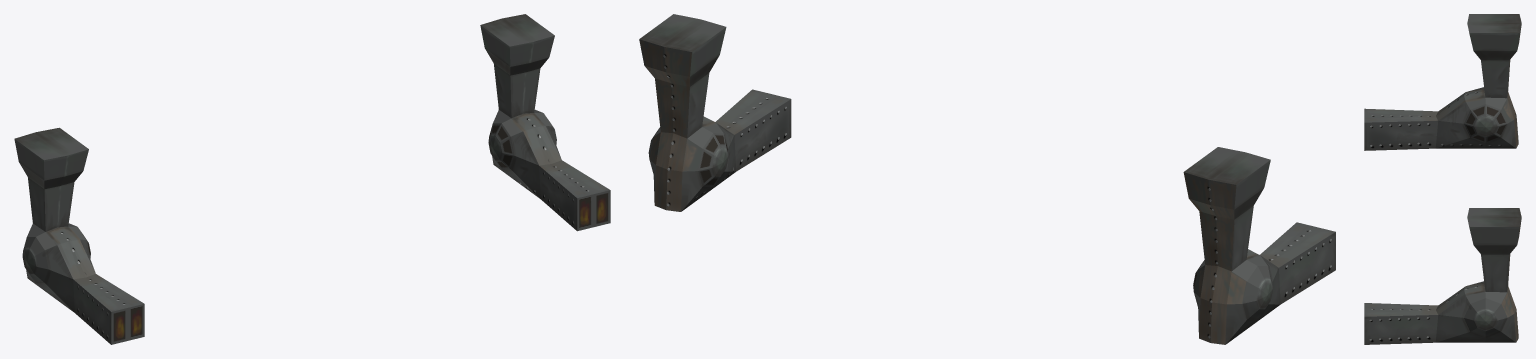
Rendered from Smoke Machine.fbx.
3 views of the same model, side by side, from view 1: azimuth 30°, elevation 25°; view 2: azimuth 150°, elevation 25°; view 3: azimuth 270°, elevation 25° (orthographic). The views are drawn at different scales.
Visible parts, largest first — view 1: rm_SmokeStackMachine_polySurface1; view 2: rm_SmokeStackMachine_polySurface1; view 3: rm_SmokeStackMachine_polySurface1.
Part boxes in pixels (x1,y1,x2,y2): rm_SmokeStackMachine_polySurface1: [14, 14, 610, 344]; rm_SmokeStackMachine_polySurface1: [639, 14, 1335, 344]; rm_SmokeStackMachine_polySurface1: [1364, 14, 1521, 344].
Size of the model in its own units: 92.42 by 23.73 by 28.13.
Materials: 1 (1 with a texture image).
